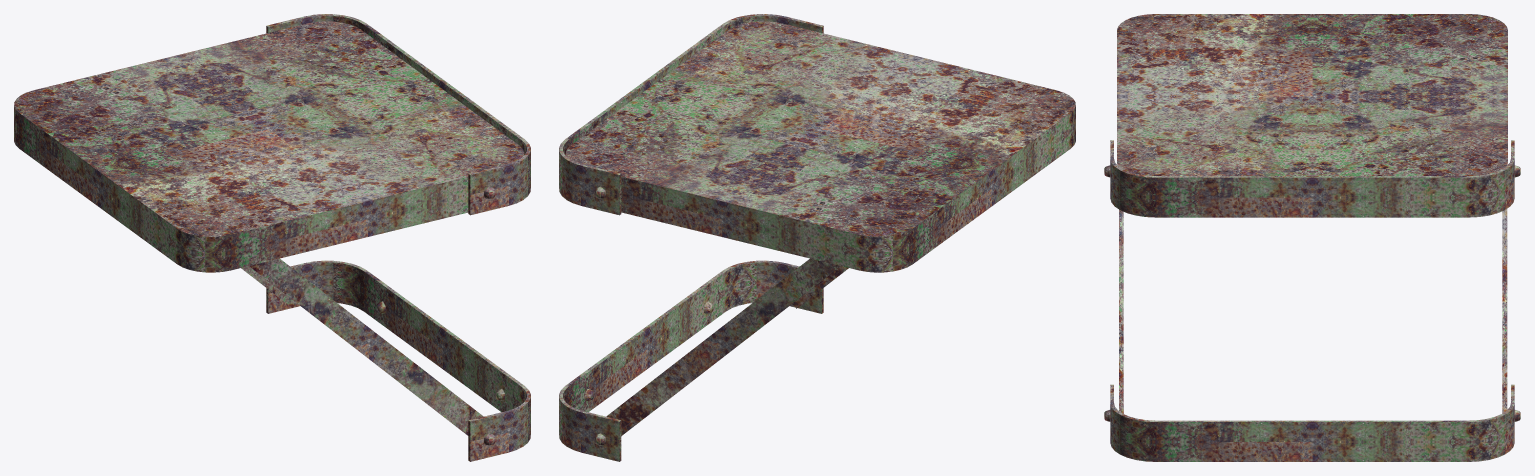
The model's file is seat.FBX.
3 renders of one model, left to right at view 1: azimuth 30°, elevation 25°; view 2: azimuth 150°, elevation 25°; view 3: azimuth 270°, elevation 25°, orthographic.
Parts seen in each view (by area): view 1: seat; view 2: seat; view 3: seat.
Part boxes in pixels (<box>): seat: <box>14,14,530,461</box>; seat: <box>559,14,1075,461</box>; seat: <box>1104,14,1520,461</box>.
Size of the model in its own units: 0.4068 by 0.3208 by 0.4258.
Materials: 1 (1 with a texture image).
